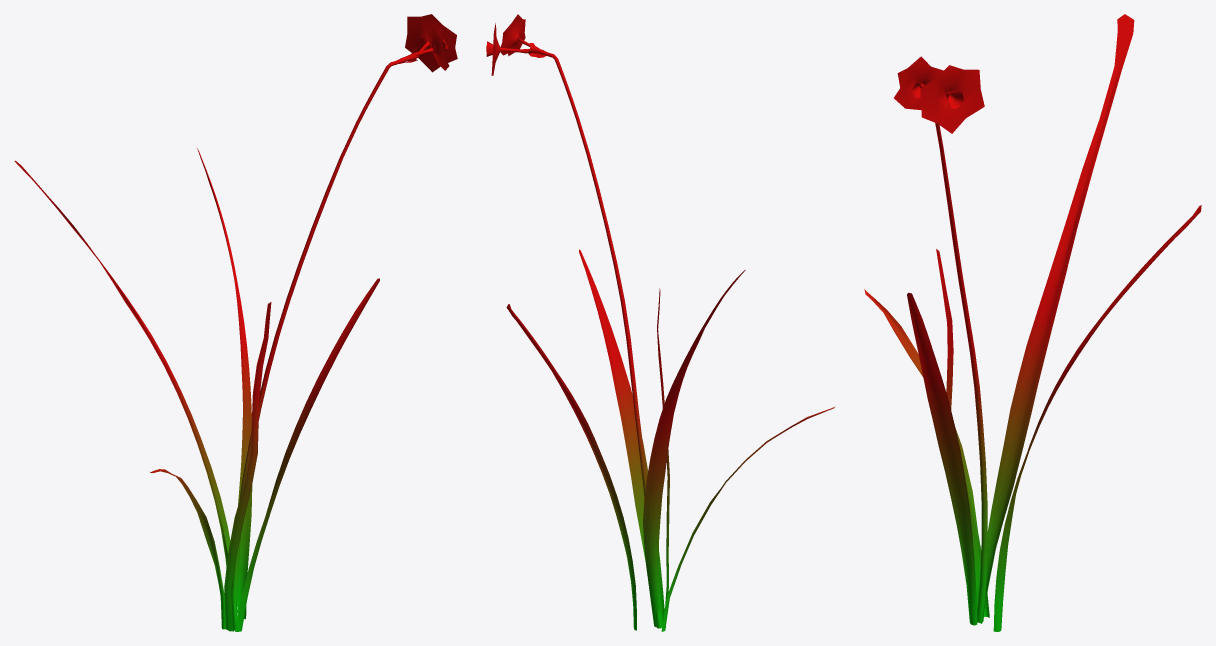
Rendered from Rush Daffodil_LOD0_Var6_wftgfjaia.fbx.
3 views of the same model, side by side, from view 1: azimuth 30°, elevation 25°; view 2: azimuth 150°, elevation 25°; view 3: azimuth 270°, elevation 25° (orthographic). The views are drawn at different scales.
Visible parts, largest first — view 1: _cffj_var6_LOD0; view 2: _cffj_var6_LOD0; view 3: _cffj_var6_LOD0.
Boxes of the visible parts, box(x1,y1,x2,y2) form: _cffj_var6_LOD0: box(14, 14, 457, 631); _cffj_var6_LOD0: box(486, 14, 834, 631); _cffj_var6_LOD0: box(864, 14, 1201, 631).
Size of the model in its own units: 21.38 by 33.75 by 15.57.
